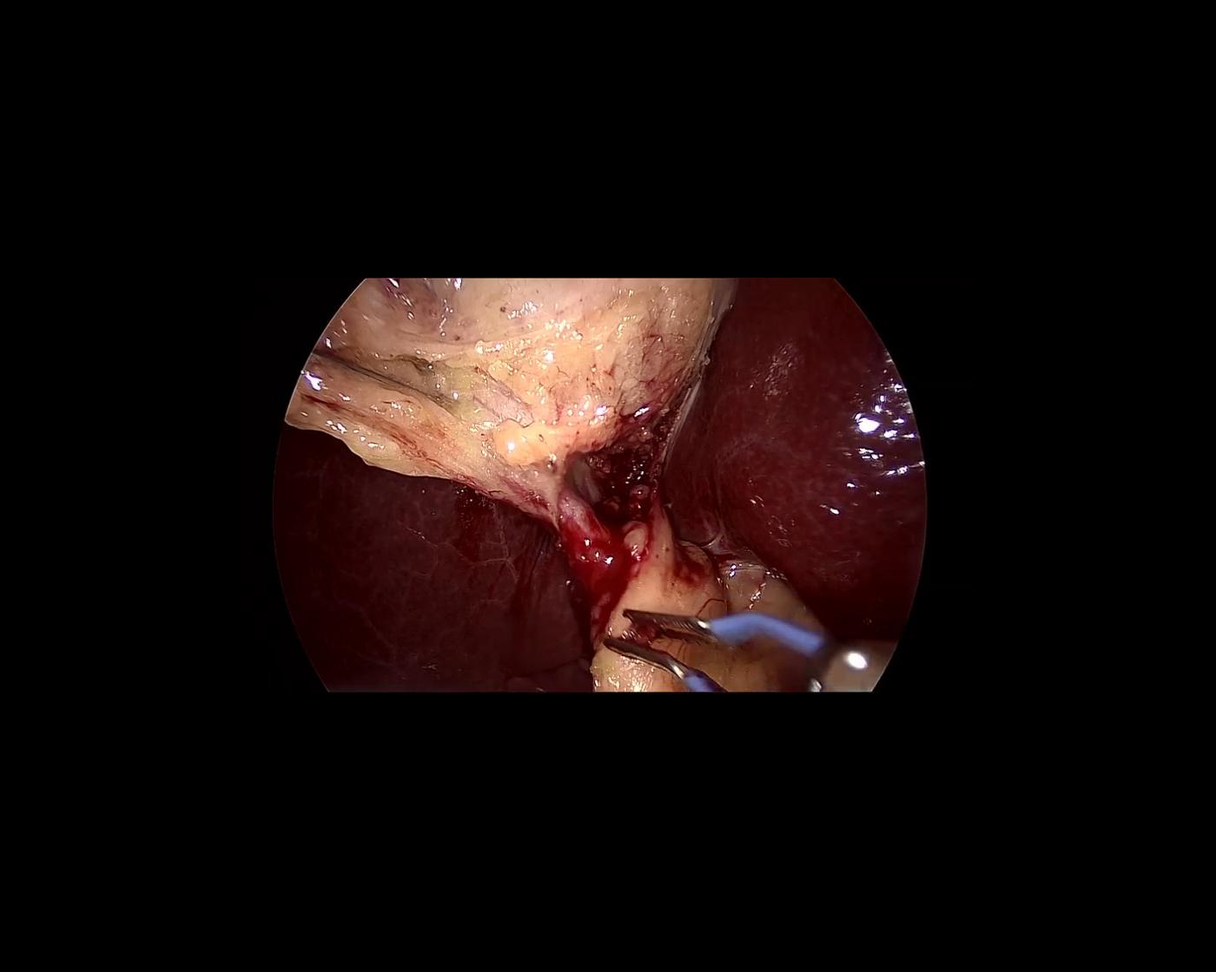Allis: (598, 607, 896, 693)
Gallbladder: (287, 274, 726, 499)
Liver: (631, 247, 1000, 654), (275, 426, 595, 692)
